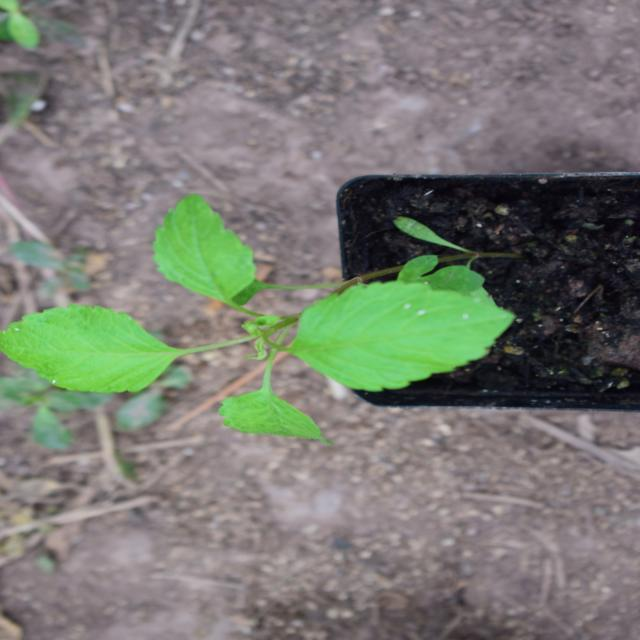Bidens pilosa: (186, 19, 442, 490)
